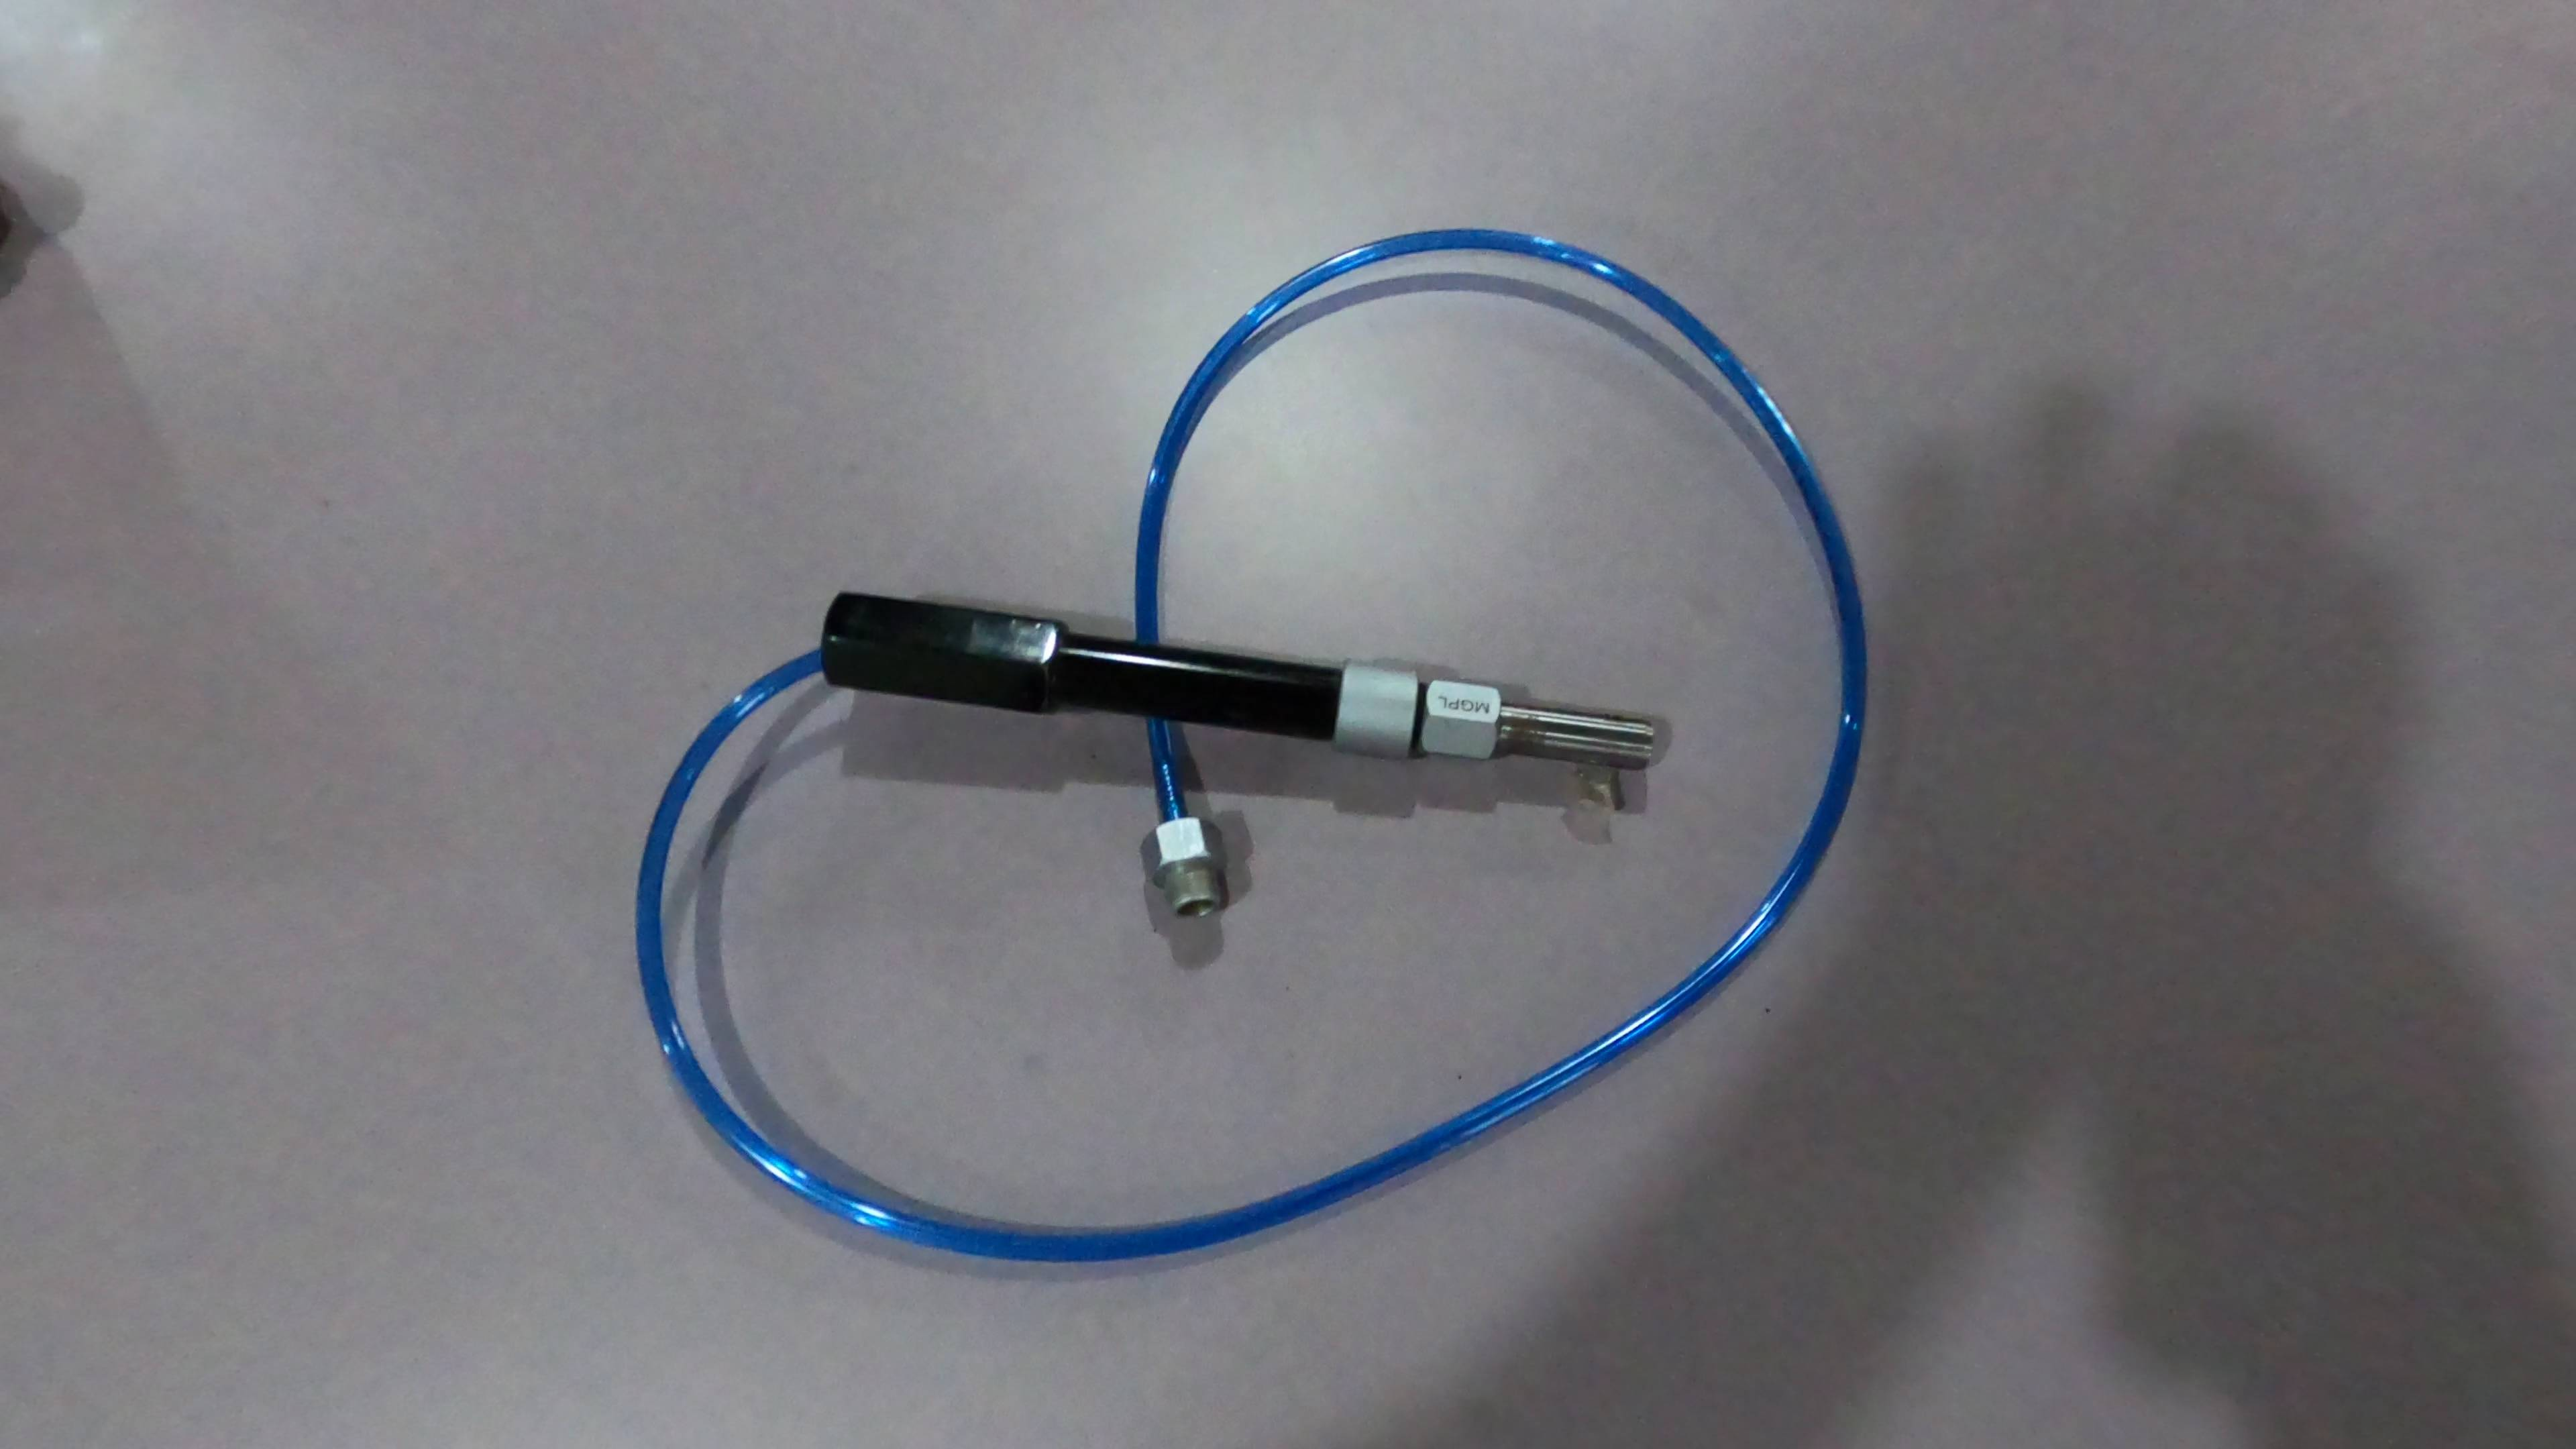air_gauge: (821, 582, 1661, 793)
